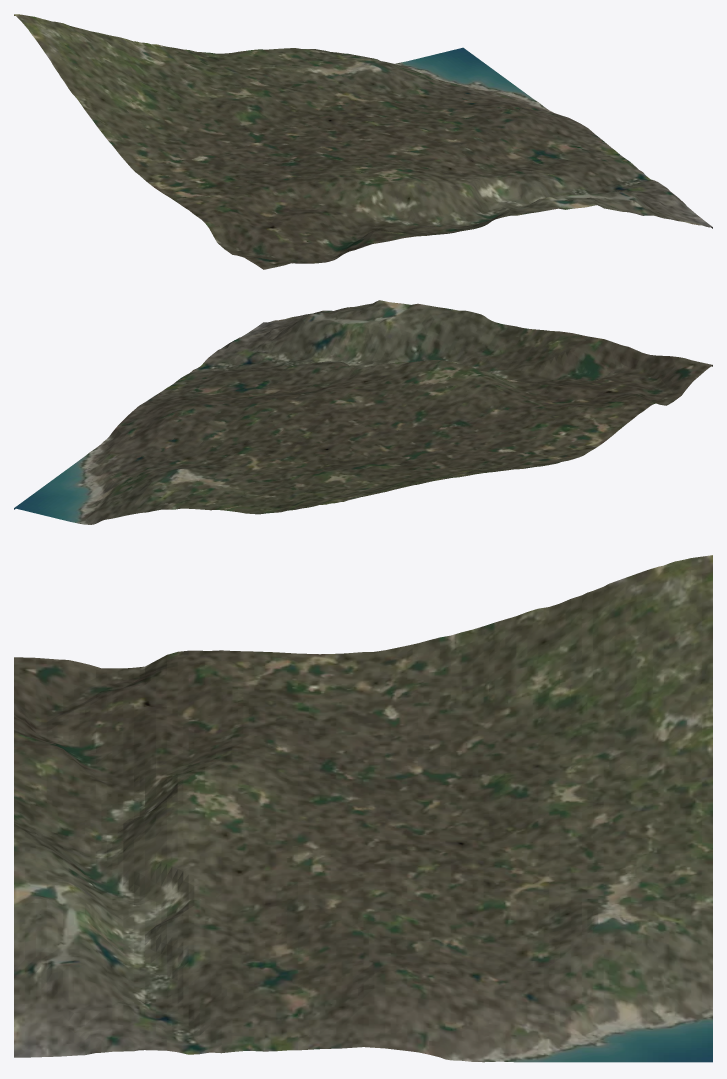
3 views of the same model, one above another, from view 1: azimuth 30°, elevation 25°; view 2: azimuth 150°, elevation 25°; view 3: azimuth 270°, elevation 25° (orthographic). The views are drawn at different scales.
Bounding box in the file's own units: 250 × 77.05 × 241.
1 material, 1 textured.
